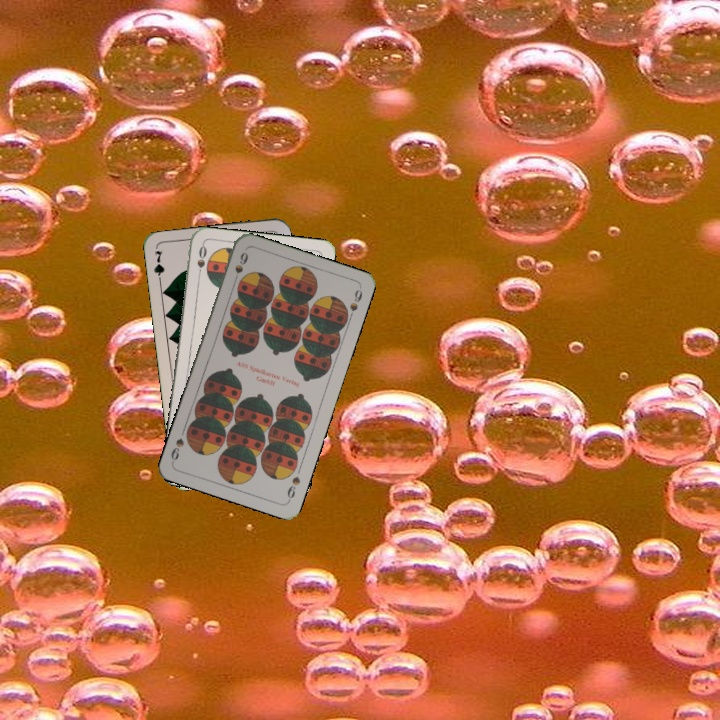G7: (150, 246, 167, 287)
S9: (229, 248, 251, 286), (283, 472, 303, 504)
SO: (193, 241, 209, 282)
